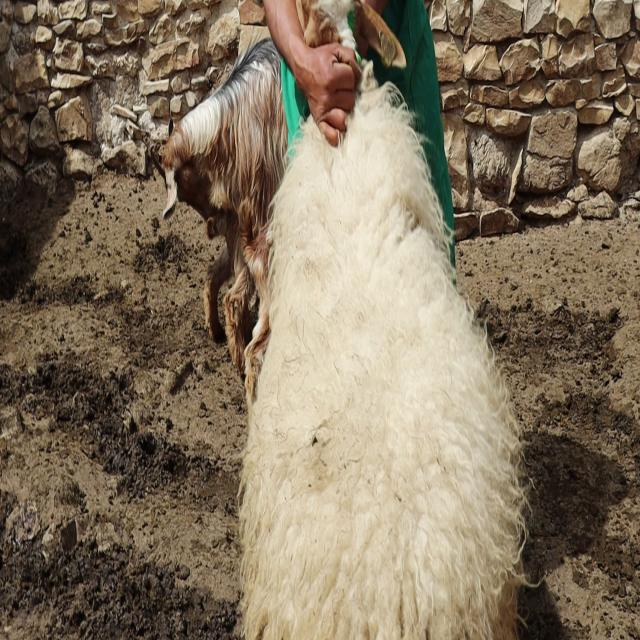Score_4: (240, 0, 529, 639)
